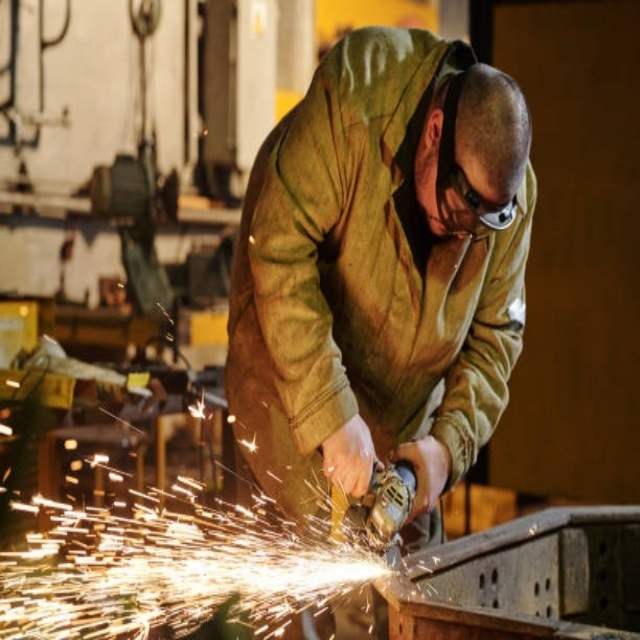Gafas: (433, 154, 521, 245)
Sin_guantes: (392, 434, 451, 527), (318, 413, 379, 502)
